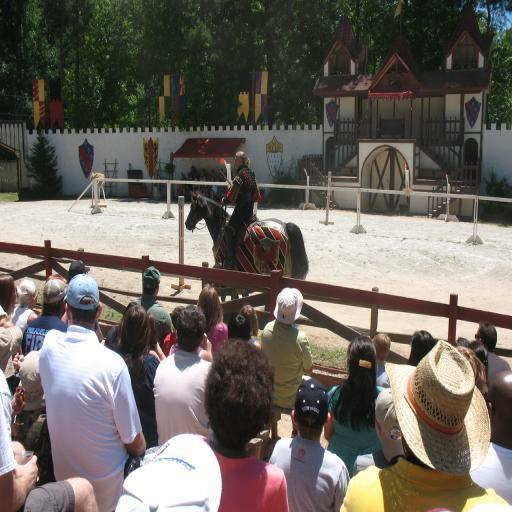horse: (184, 190, 310, 314)
